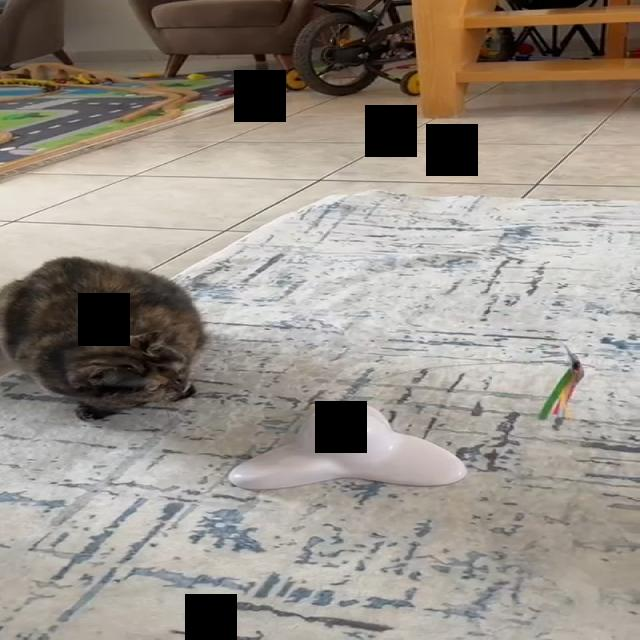authorized: (0, 255, 207, 421)
